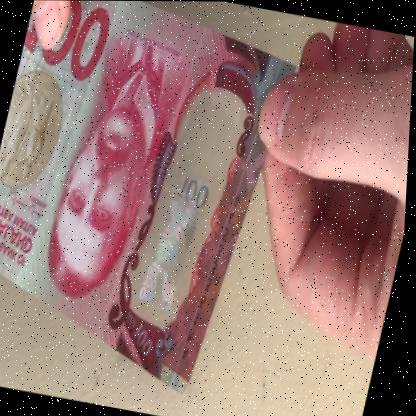100F: (133, 100, 243, 321)
